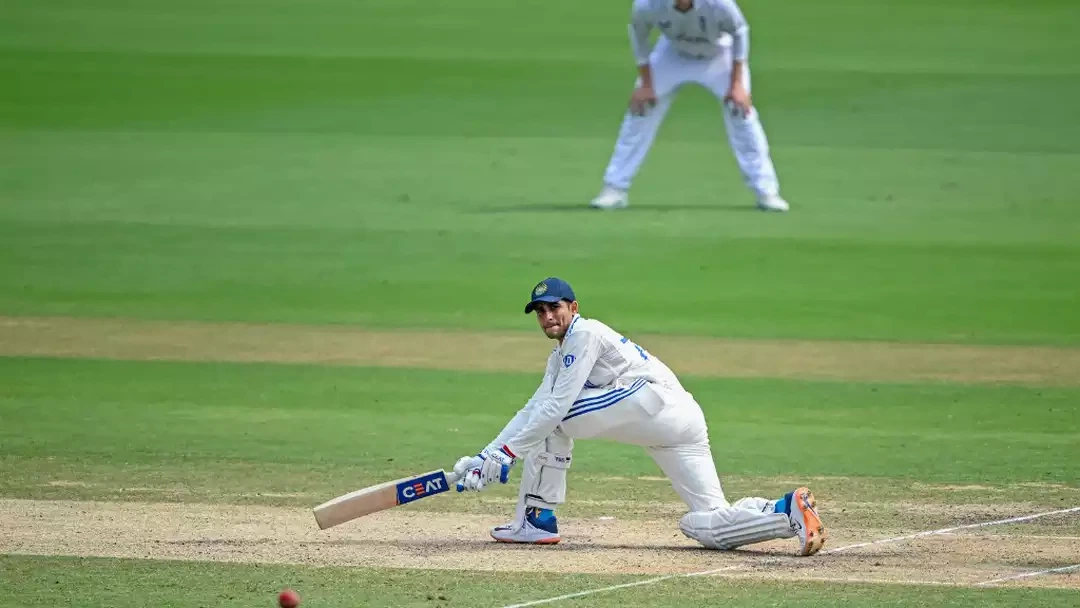Sweepshot: (264, 157, 870, 570)
